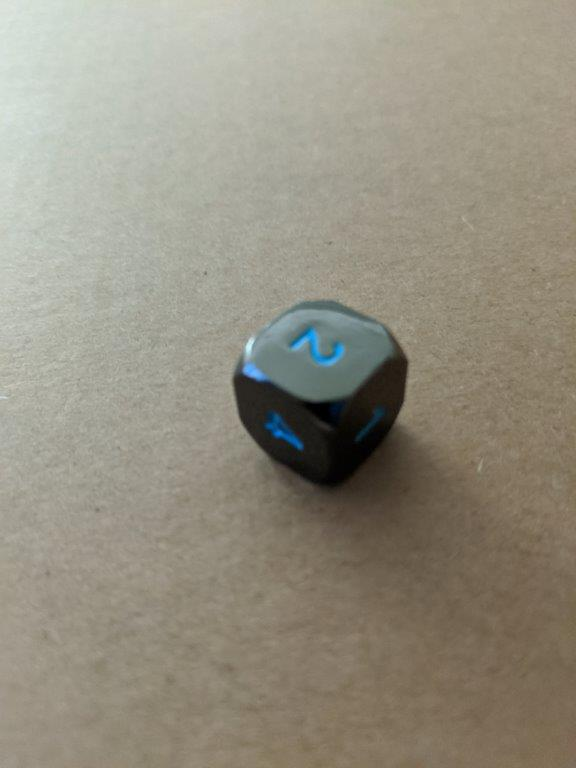d6-2: (233, 301, 410, 488)
